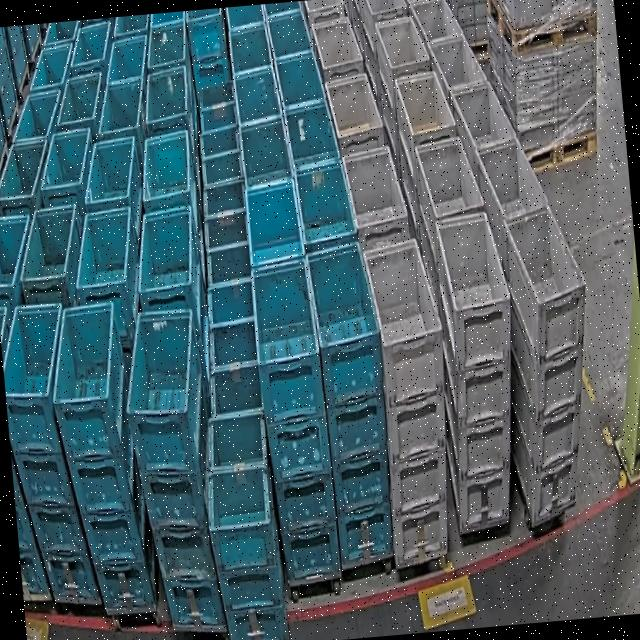4G: (491, 200, 607, 527), (424, 212, 530, 532), (362, 235, 462, 566)
B4: (44, 300, 160, 612), (116, 306, 225, 632), (0, 299, 101, 611), (306, 239, 400, 570), (249, 258, 340, 586)
B8: (198, 411, 287, 640)
